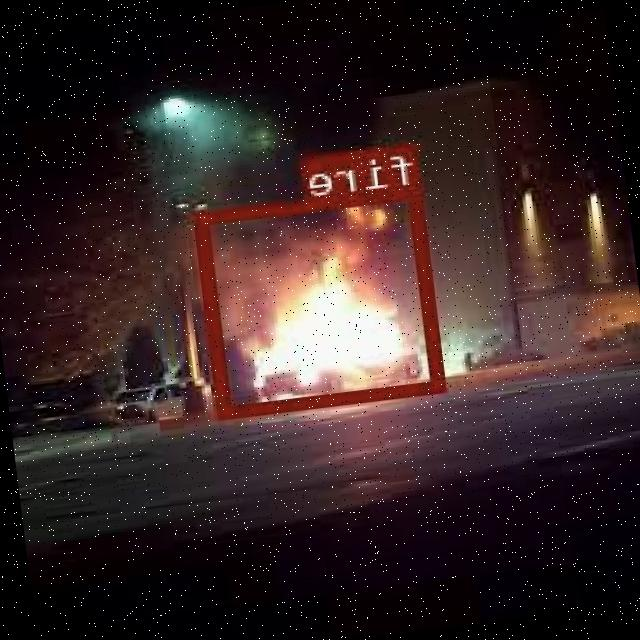fire: (196, 184, 447, 416)
